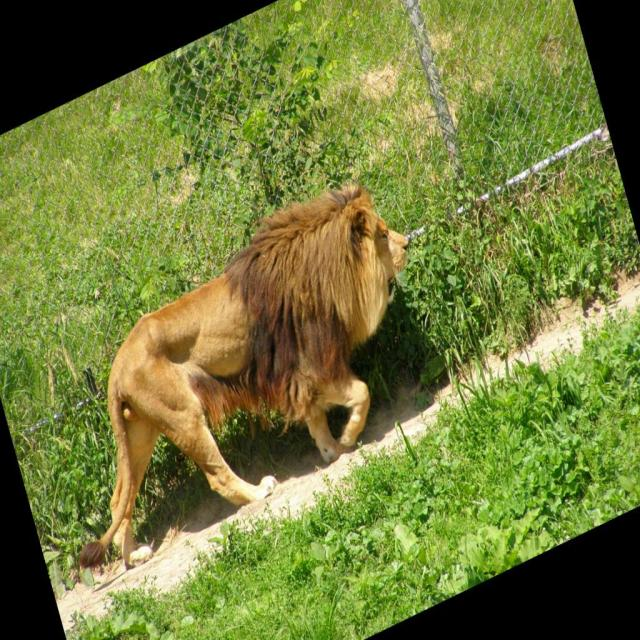Lion: (16, 157, 456, 592)
